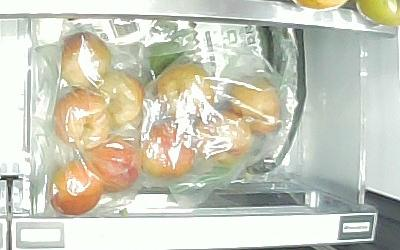prune_vinyl: (222, 75, 283, 138), (53, 88, 109, 147), (196, 109, 253, 166), (140, 119, 195, 178), (156, 62, 213, 118), (51, 158, 102, 215), (56, 33, 110, 86), (86, 139, 139, 190), (96, 72, 142, 128)
